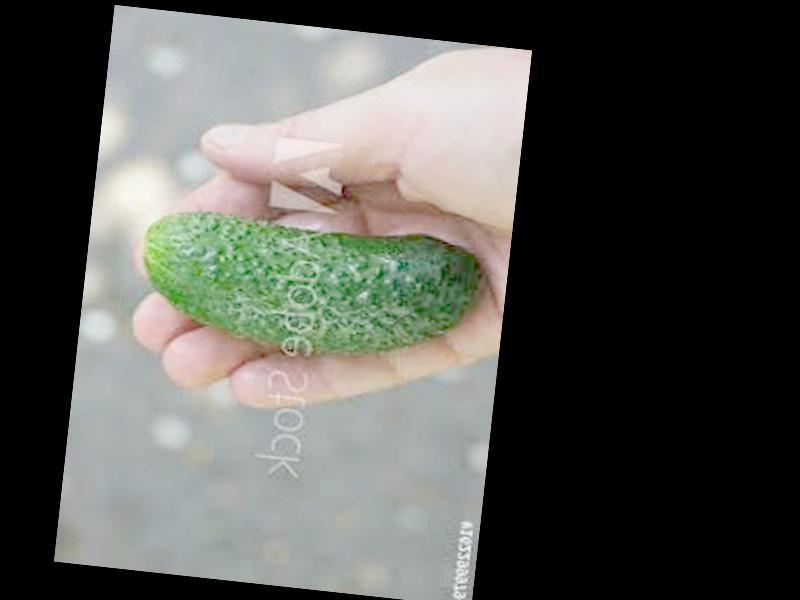Cucumber: (136, 205, 486, 371)
